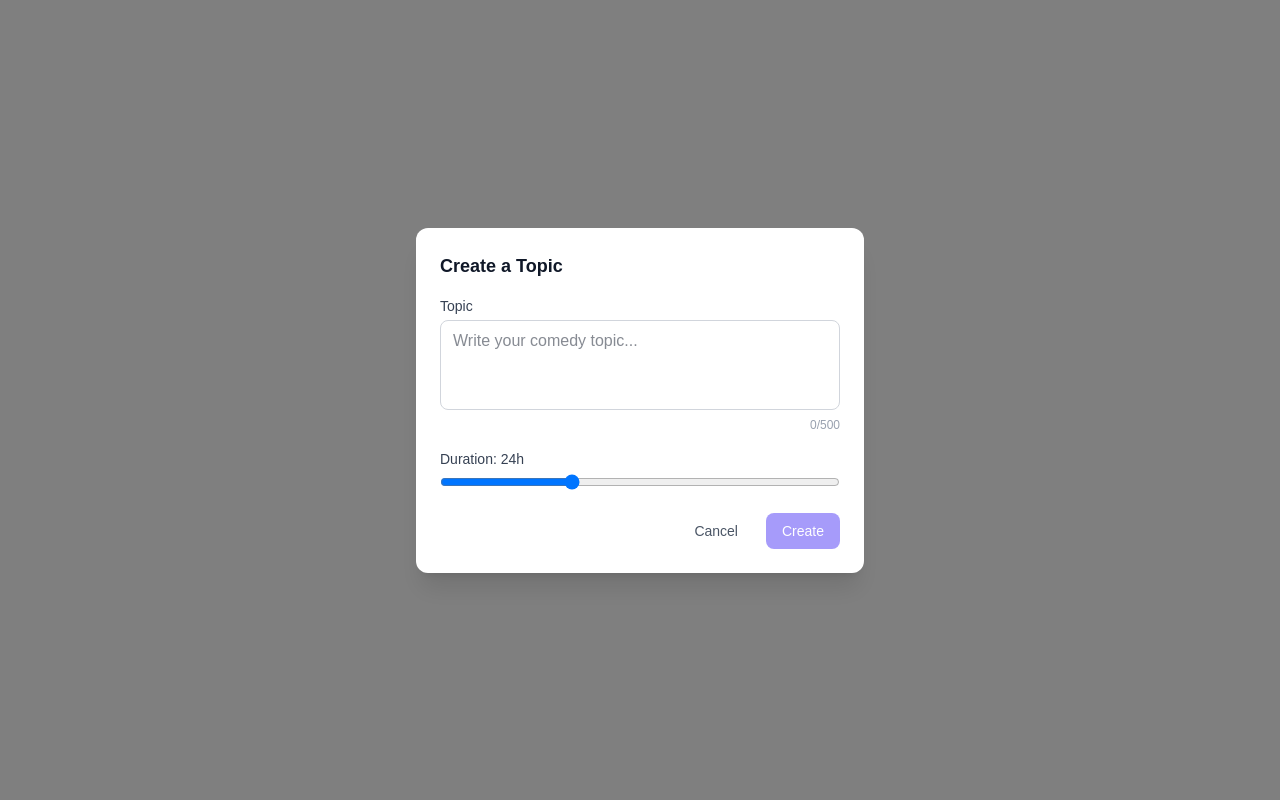
Scenario: CreateTopicModal › submit button is enabled after typing
Step 1. Type "My prompt" into the text box with placeholder "Write your comedy topic..." → coordinates (640, 364), box [440,320,840,410]
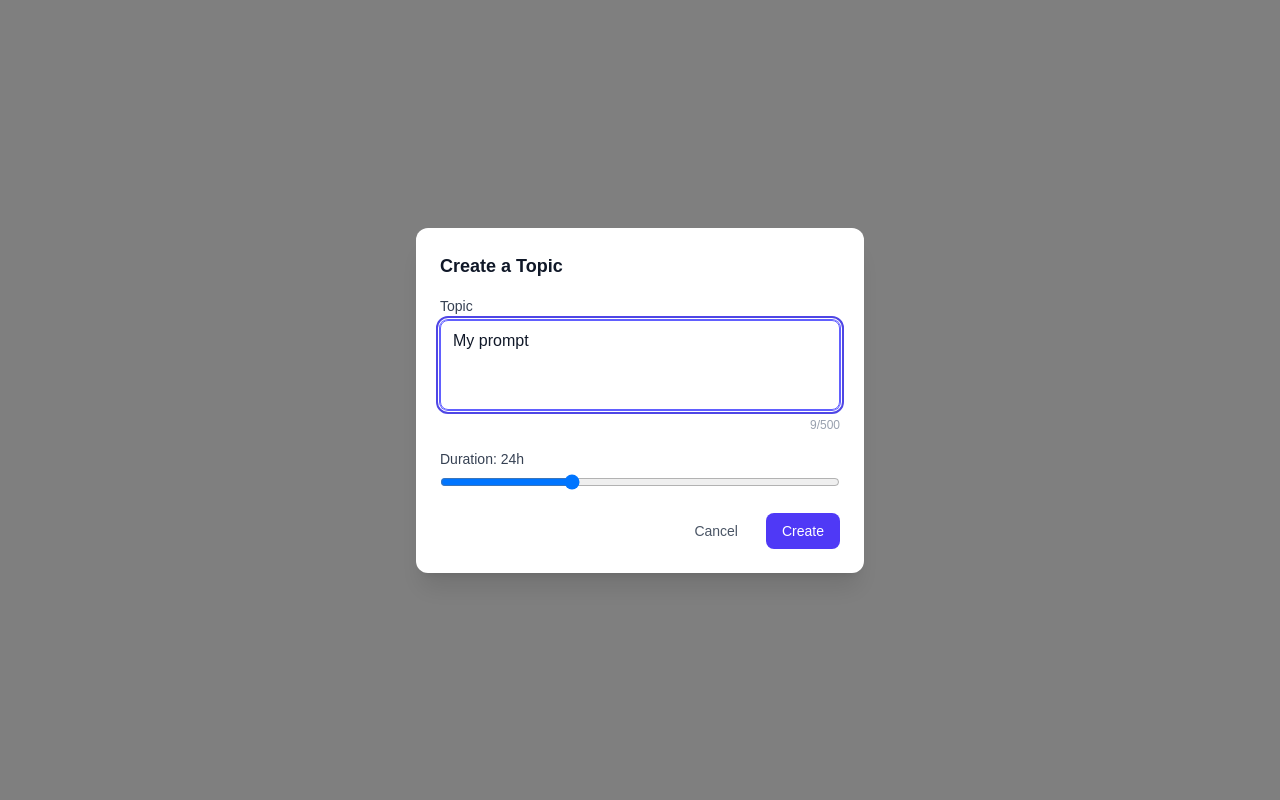
Check: the button "Create" is enabled, box [766,512,840,548]
